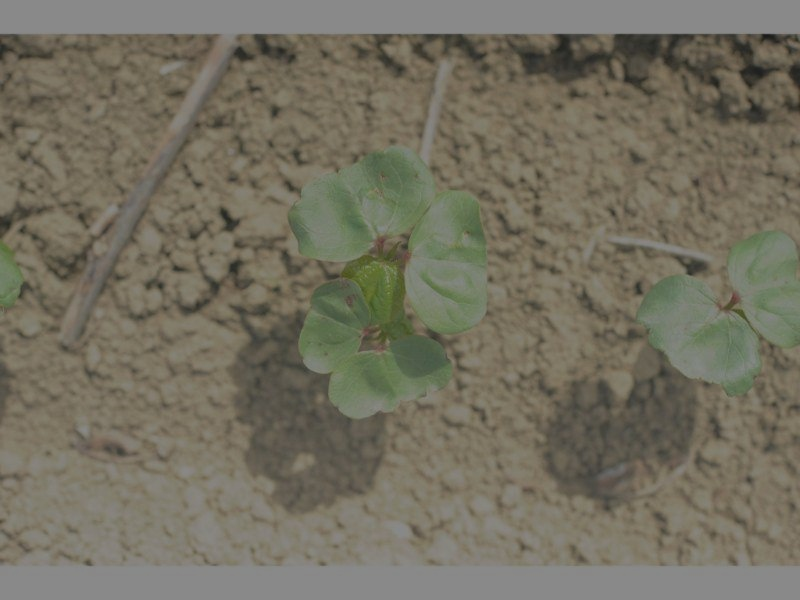cotton: (287, 148, 489, 419), (639, 229, 800, 395)
